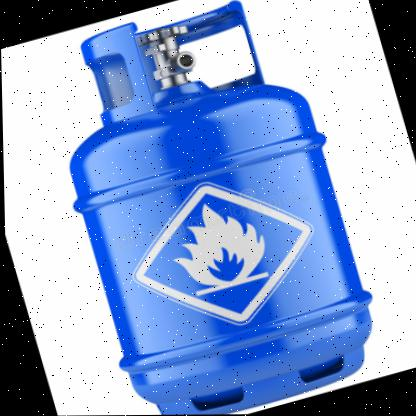gas-tank: (14, 0, 411, 415)
